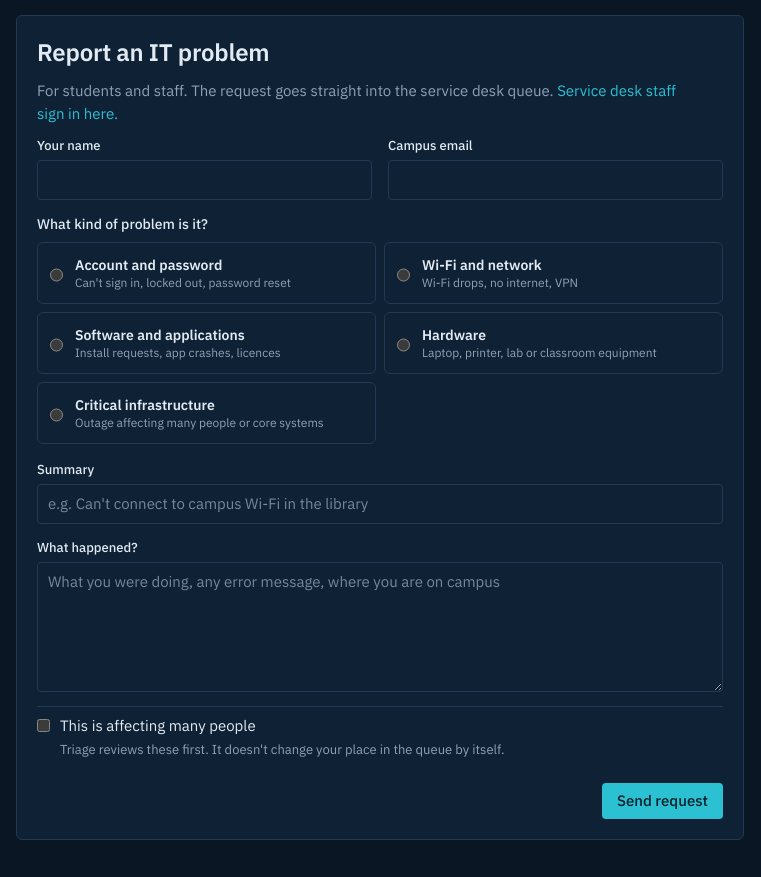
Scenario: public request form › shows field errors instead of sending an invalid request
(page scrolled)
Click the button "Send request".
click(662, 801)  # box [602,783,723,819]
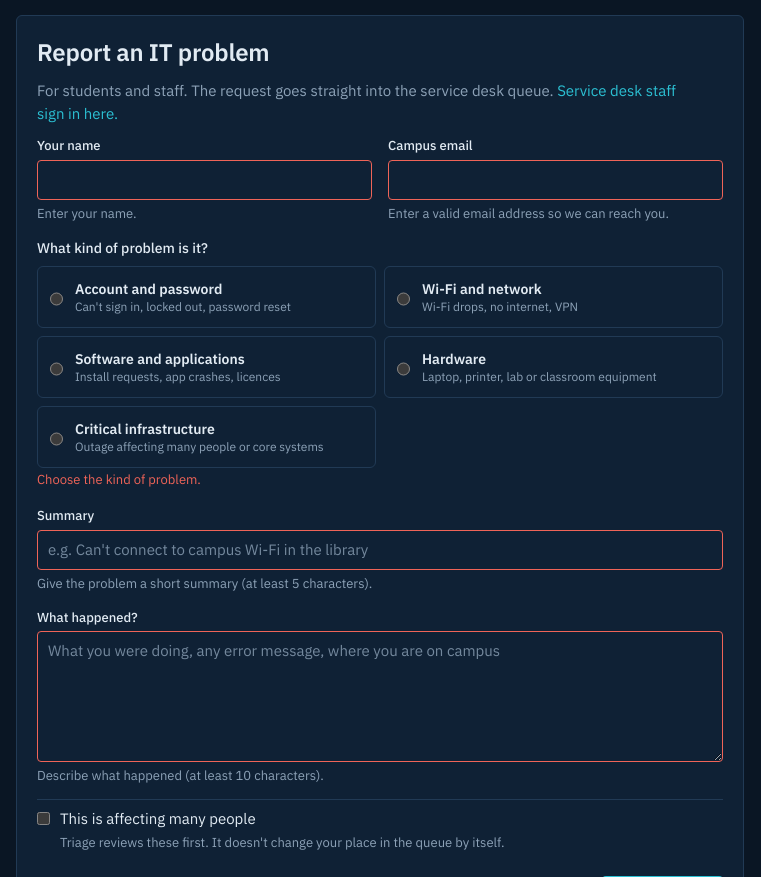
expect the text "Enter your name." is shown: met, box [37,205,136,222]
